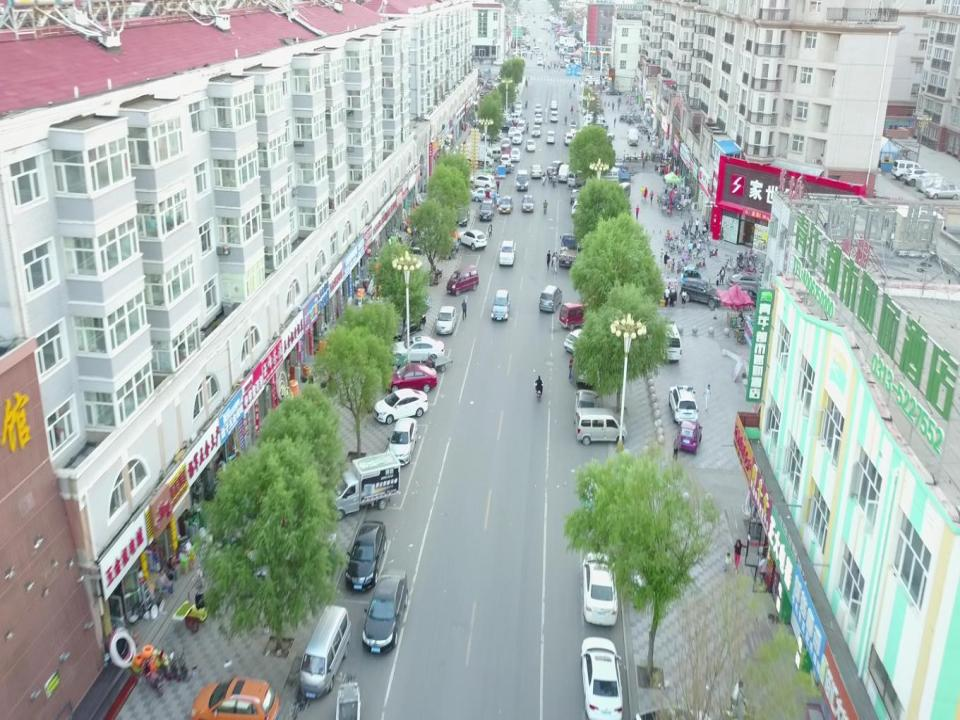car: (361, 568, 409, 655), (191, 675, 281, 720), (580, 633, 624, 719), (344, 519, 387, 589), (580, 547, 618, 626), (371, 386, 428, 424), (383, 416, 418, 466), (385, 362, 438, 395), (388, 336, 445, 364), (680, 276, 723, 310), (668, 383, 700, 426), (391, 305, 426, 340), (657, 319, 684, 362), (572, 385, 599, 427), (578, 351, 604, 393), (726, 269, 767, 295), (676, 418, 703, 457), (734, 282, 770, 310), (560, 328, 594, 356), (536, 280, 563, 312), (454, 228, 487, 251), (489, 289, 511, 323), (435, 304, 457, 336), (497, 236, 516, 266), (469, 172, 496, 189), (468, 186, 496, 202), (452, 203, 470, 224), (480, 196, 495, 221), (569, 199, 586, 221), (479, 128, 503, 143), (518, 193, 535, 213), (568, 186, 585, 206), (515, 169, 529, 191), (498, 195, 513, 215), (558, 162, 572, 183), (546, 159, 565, 174), (625, 128, 640, 147), (509, 146, 522, 164), (529, 162, 543, 178), (524, 136, 536, 154), (499, 121, 516, 133), (573, 127, 585, 143), (498, 162, 515, 173), (511, 130, 523, 145), (514, 118, 526, 133), (546, 130, 558, 144), (499, 152, 511, 166), (531, 124, 541, 140), (562, 132, 574, 145), (568, 124, 579, 138), (506, 126, 518, 138), (550, 109, 560, 123), (501, 137, 511, 150), (549, 98, 559, 111), (534, 113, 544, 125), (584, 74, 596, 84), (604, 87, 621, 94), (588, 77, 598, 87), (515, 104, 523, 116), (534, 103, 542, 113), (511, 100, 522, 107), (536, 56, 544, 65)
truck: (556, 232, 580, 270)
van: (299, 600, 351, 696), (572, 403, 628, 450), (555, 298, 591, 332), (446, 264, 479, 296), (568, 169, 588, 189), (600, 166, 620, 185), (616, 181, 632, 203), (487, 146, 503, 161), (495, 109, 509, 124), (506, 112, 520, 125), (510, 82, 521, 92), (492, 59, 503, 66)
